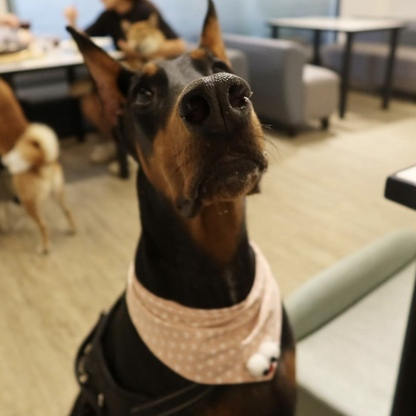doberman: (58, 10, 311, 416)
